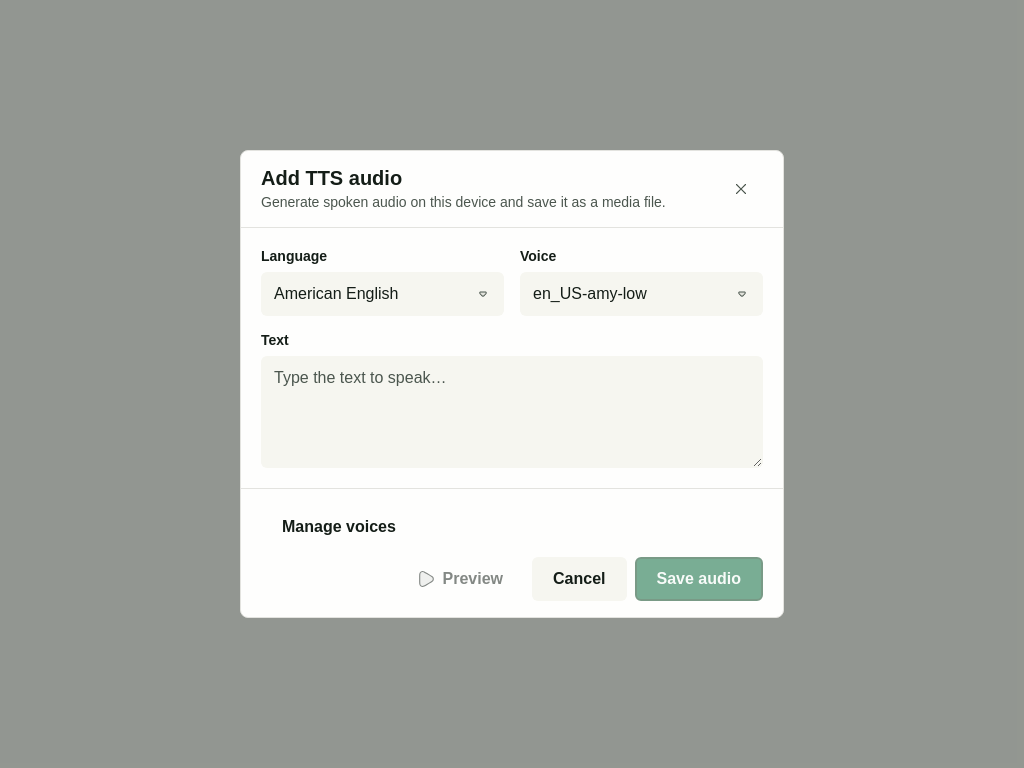
TtsDialog › shows the error when saving fails
The width and height of the screenshot is (1024, 768).
Expected: the dialog is shown, [240, 150, 784, 618]
Type "hi" into the text box with placeholder "Type the text to speak…" at (512, 412), box [261, 356, 763, 468]
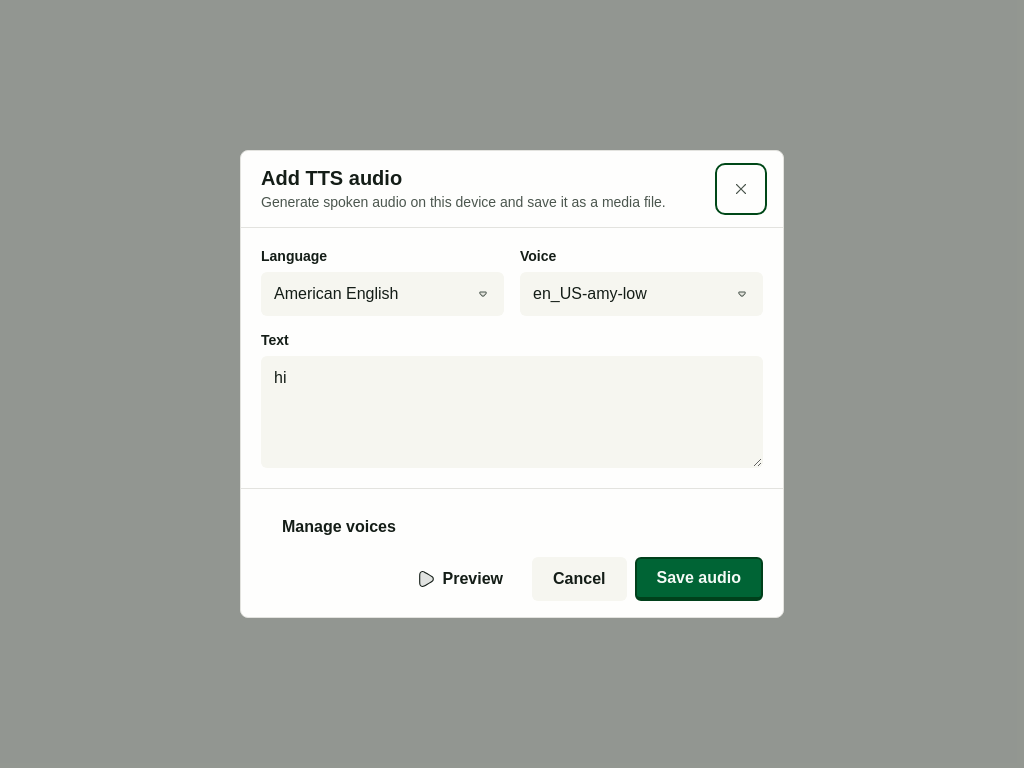
Expected: the button "Save audio" is enabled
Click the button "Save audio" at (699, 579), box [634, 557, 763, 601]
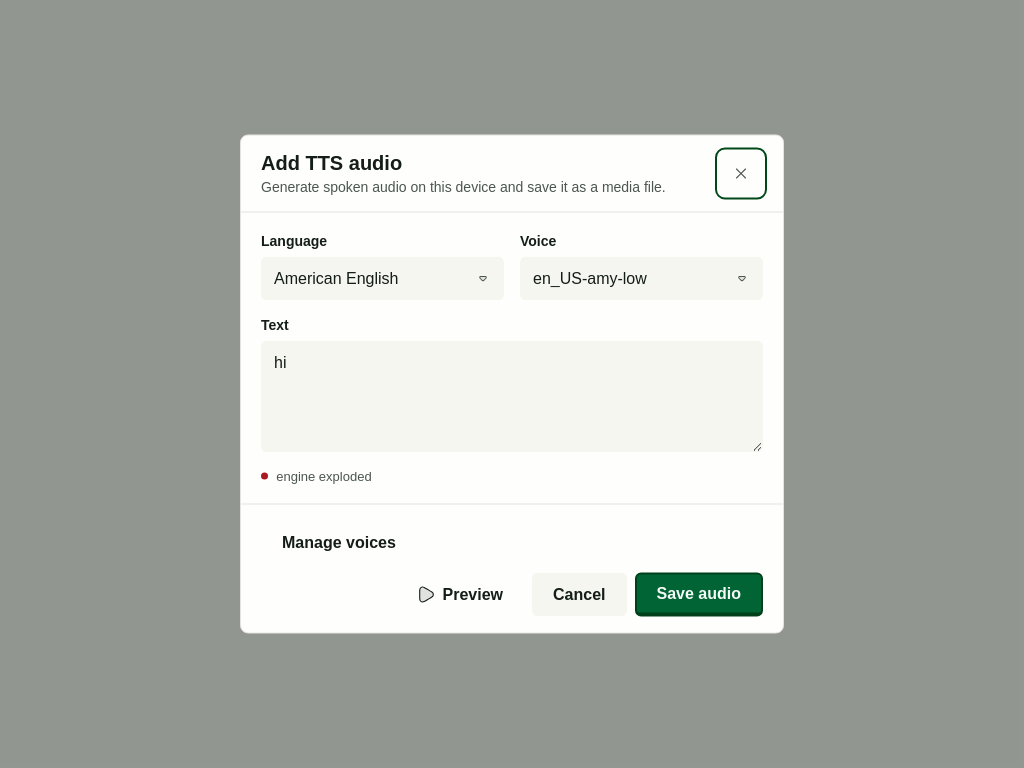
Expected: the text "engine exploded" is shown, [276, 468, 372, 484]
